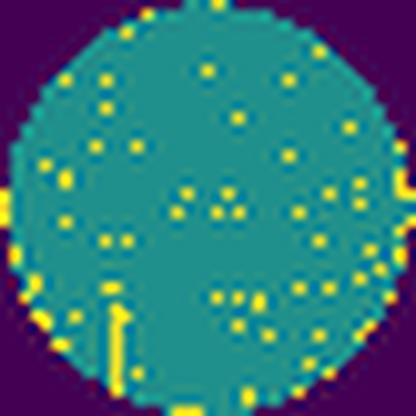Scratch: (106, 297, 137, 402)
